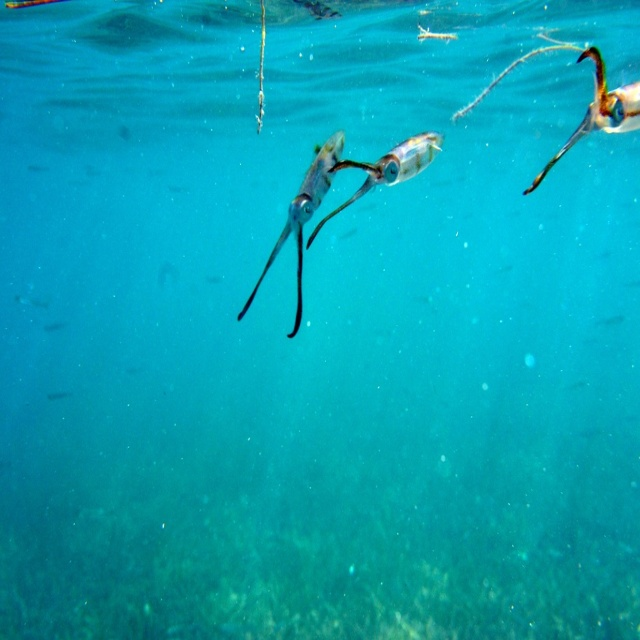Fish: (236, 126, 344, 338), (522, 46, 640, 195), (306, 130, 445, 250)
